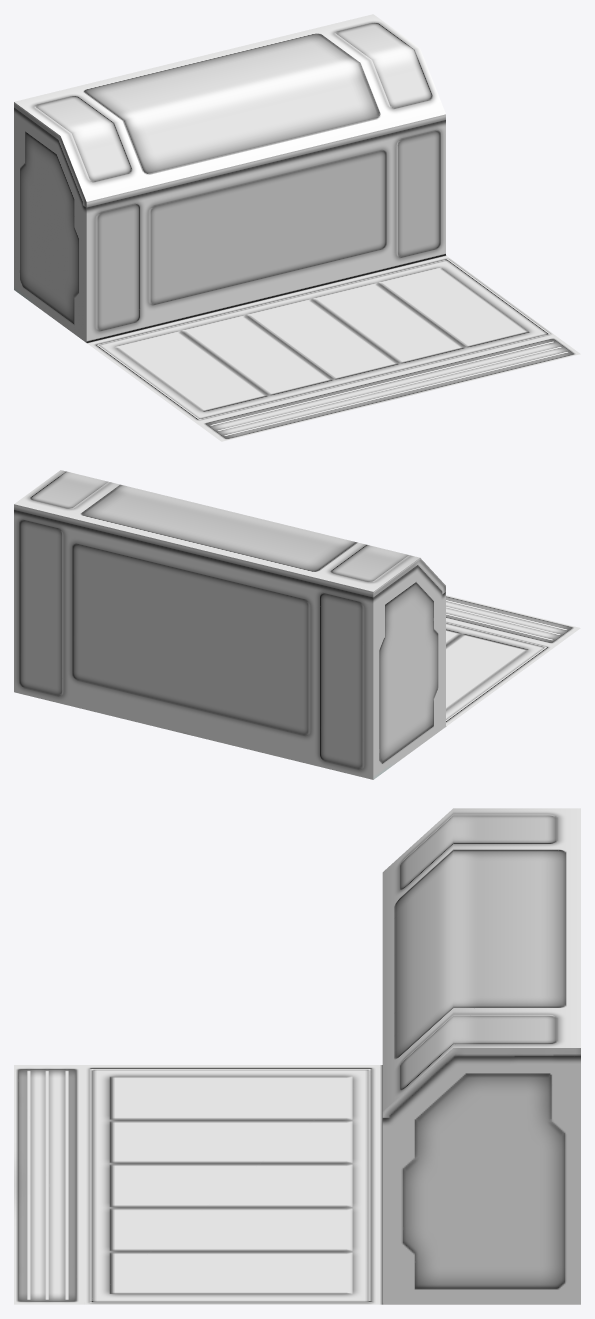
The model's file is Sect_Floor_9.FBX.
3 views of the same model, one above another, from view 1: azimuth 30°, elevation 25°; view 2: azimuth 150°, elevation 25°; view 3: azimuth 270°, elevation 25° (orthographic). The views are drawn at different scales.
Parts seen in each view (by area): view 1: Floor_9; view 2: Floor_9; view 3: Floor_9.
Boxes of the visible parts, bbox=[...] form: Floor_9: bbox=[14, 14, 580, 441]; Floor_9: bbox=[14, 470, 580, 779]; Floor_9: bbox=[14, 808, 580, 1304].
Size of the model in its own units: 4 by 2 by 4.
